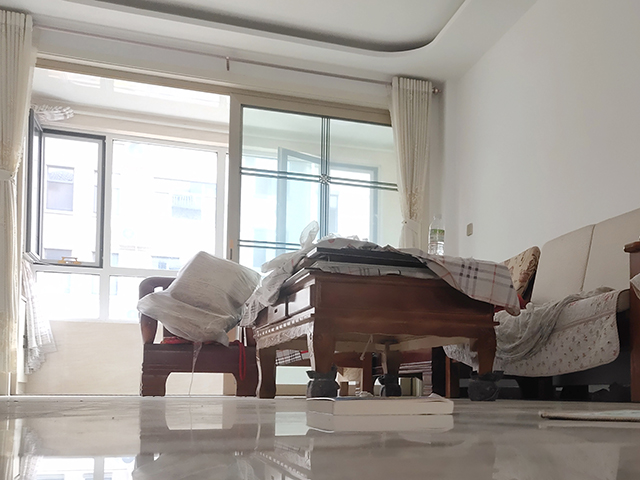book: (302, 390, 455, 417)
carpet: (541, 408, 640, 424)
curtain: (1, 6, 61, 382), (388, 73, 434, 245)
sofa: (517, 204, 639, 404), (135, 275, 260, 399)
table: (237, 235, 522, 403)
